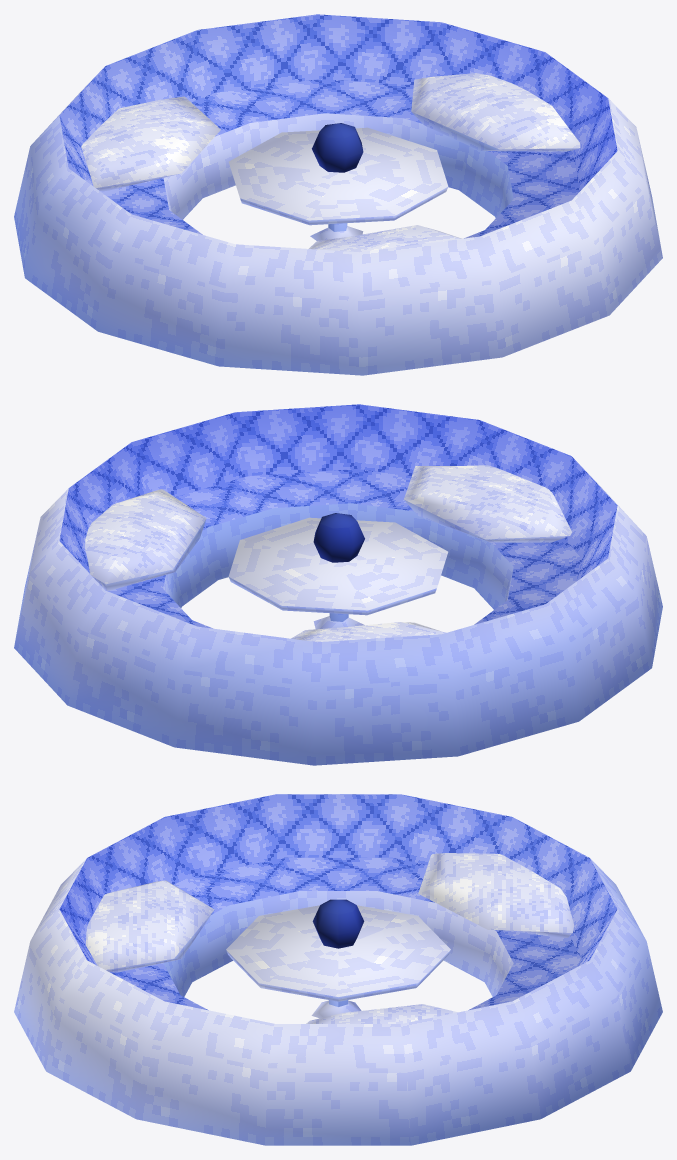
File: furn.pod__conversation_pit.glb
3 renders of one model, top to bottom at view 1: azimuth 30°, elevation 25°; view 2: azimuth 150°, elevation 25°; view 3: azimuth 270°, elevation 25°, orthographic.
Visible parts, largest first — view 1: kit_pod_shell, kit_pod_cushion, kit_pod_extra; view 2: kit_pod_shell, kit_pod_cushion, kit_pod_extra; view 3: kit_pod_shell, kit_pod_cushion, kit_pod_extra.
Boxes of the visible parts, x1,y1,x2,y2 form: kit_pod_shell: (14, 14, 662, 375); kit_pod_cushion: (81, 73, 580, 252); kit_pod_extra: (228, 123, 448, 240); kit_pod_shell: (14, 404, 662, 765); kit_pod_cushion: (85, 465, 571, 642); kit_pod_extra: (228, 513, 448, 629); kit_pod_shell: (14, 794, 662, 1145); kit_pod_cushion: (86, 853, 574, 1023); kit_pod_extra: (226, 899, 450, 1018).
Size of the model in its own units: 3.12 by 0.6111 by 3.2.
4 materials, 3 textured.
